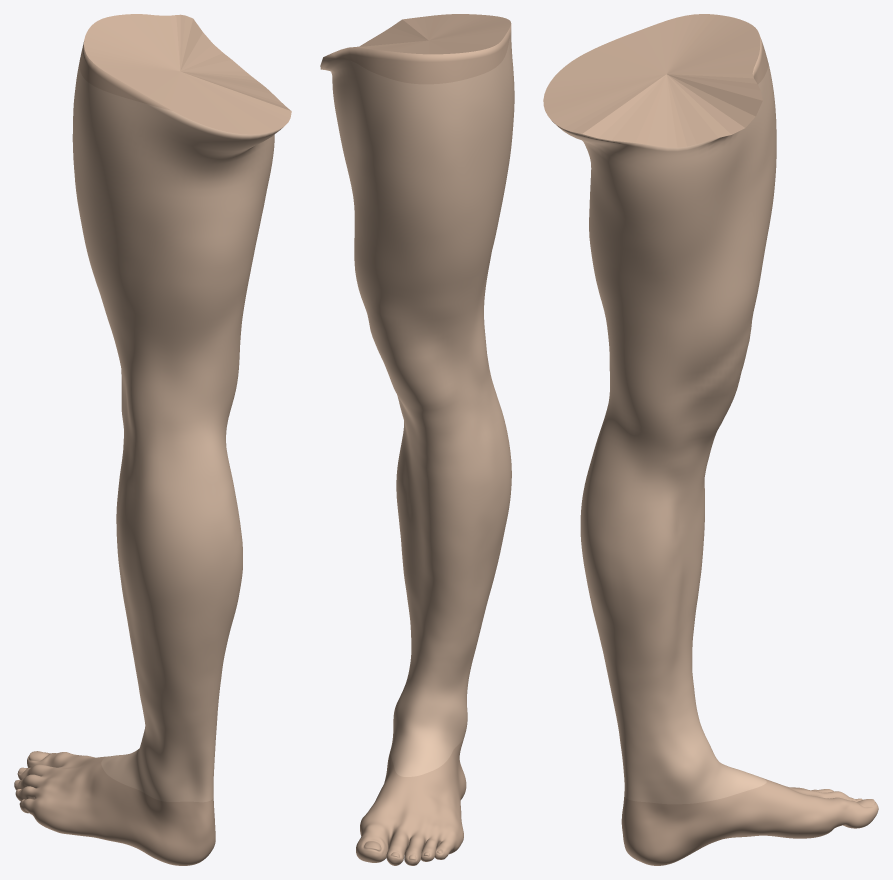
The model's file is male-leg-left.glb.
3 renders of one model, left to right at view 1: azimuth 30°, elevation 25°; view 2: azimuth 150°, elevation 25°; view 3: azimuth 270°, elevation 25°, orthographic. The views are drawn at different scales.
Visible parts, largest first — view 1: paintable, context; view 2: paintable, context; view 3: paintable, context.
Part boxes in pixels (left/top/right/bottom): paintable: left=72, top=64, right=283, bottom=802; context: left=14, top=14, right=291, bottom=865; paintable: left=320, top=24, right=514, bottom=776; context: left=322, top=14, right=511, bottom=865; paintable: left=552, top=63, right=776, bottom=804; context: left=543, top=14, right=878, bottom=865.
Size of the model in its own units: 204 by 907 by 338.
